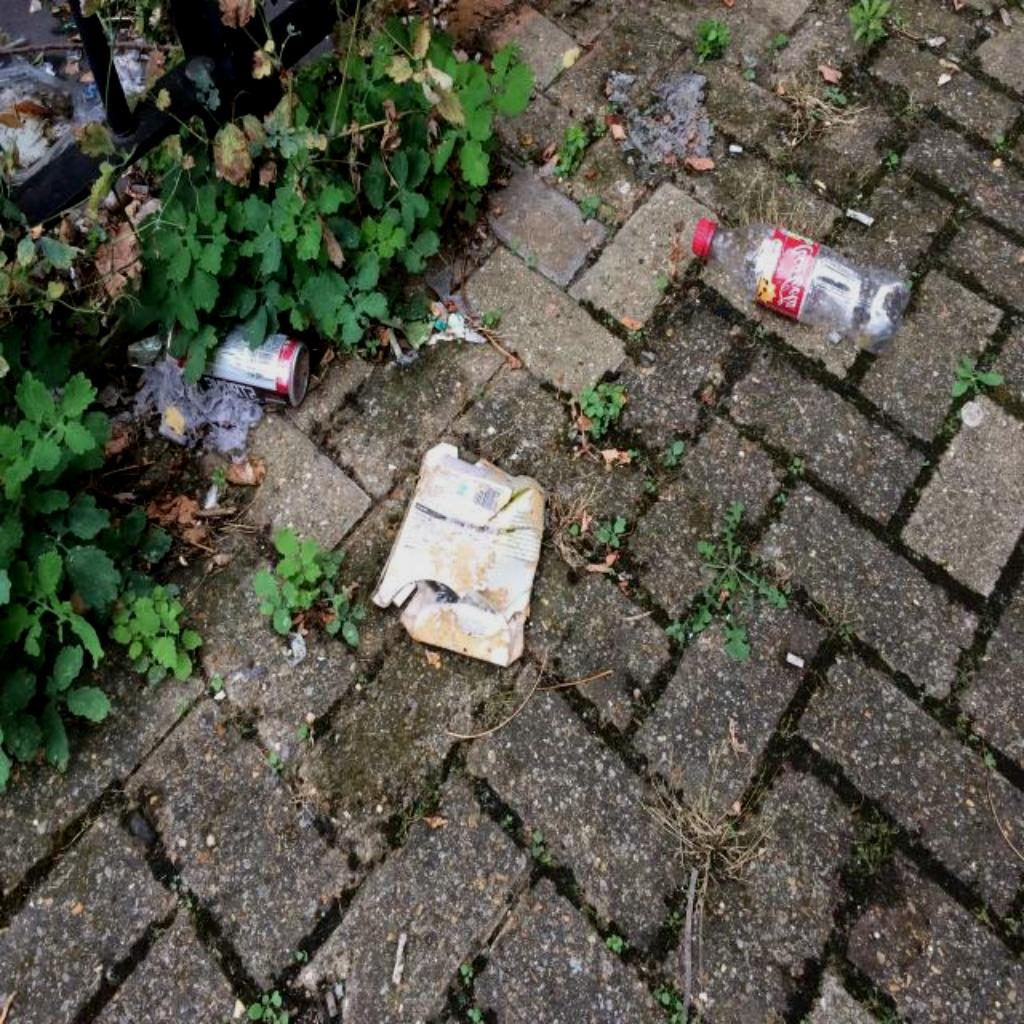garbage: (374, 443, 546, 672), (691, 218, 907, 350), (208, 329, 307, 407)
